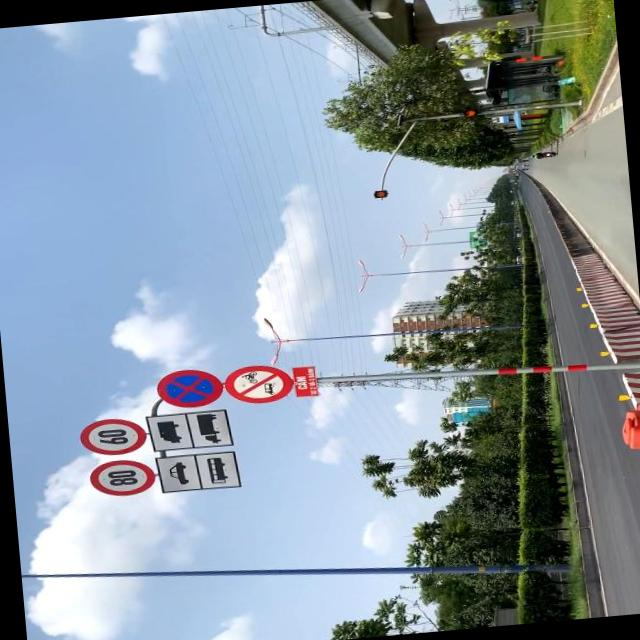P-104: (221, 360, 294, 405)
P-127: (77, 415, 149, 458), (86, 458, 156, 498)
P-130: (154, 366, 225, 408)
